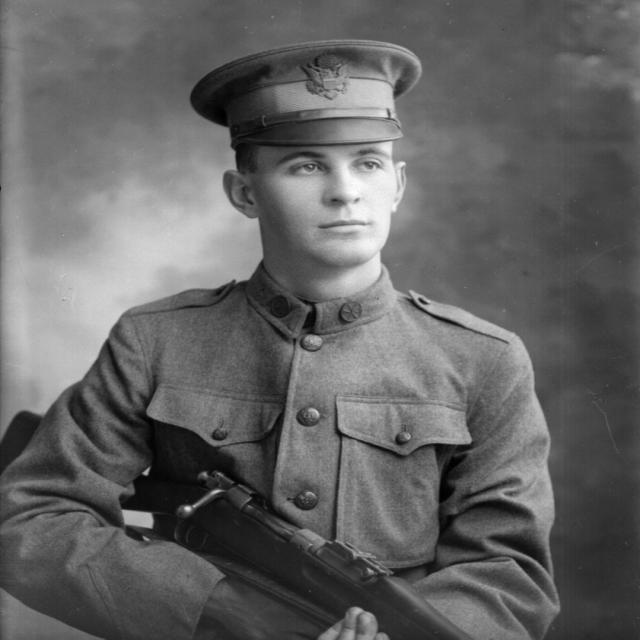weapon: (0, 410, 479, 640)
